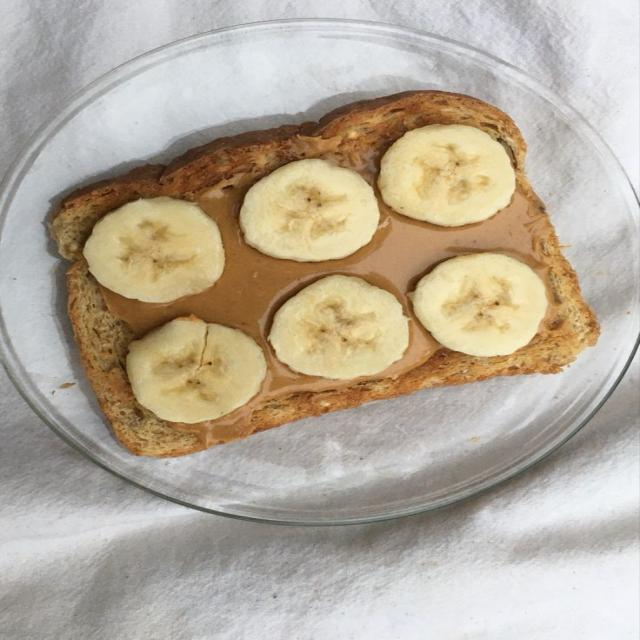sliced_bread: (51, 91, 598, 457)
